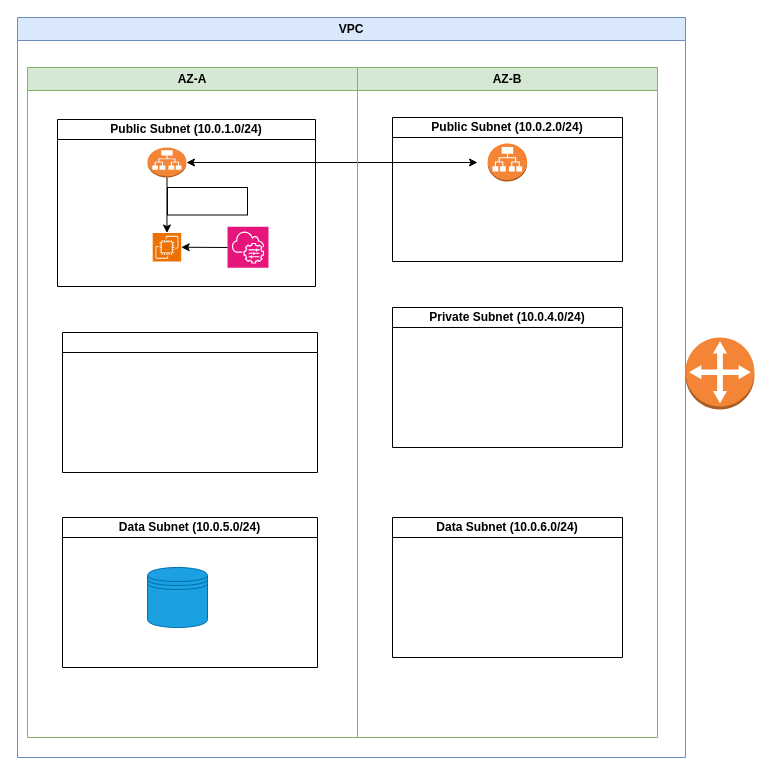
This 772x775 diagram has some shape labels left out. The shapes that lost their labels are listed below. From the top down, each one's centre as x and y in pixels, then its label:
At point (207, 200): "production-a pp-A (SG)".
At point (190, 402): "Private Subnet (10.0.3.0/24)".
